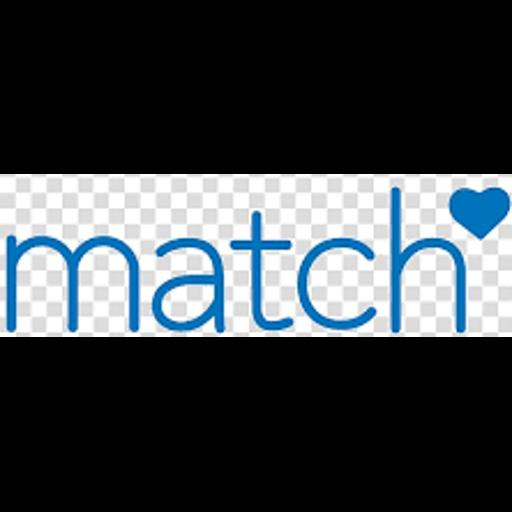Match: (0, 174, 512, 337)
